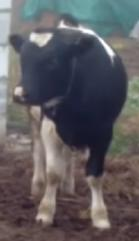cow: (10, 15, 128, 228)
